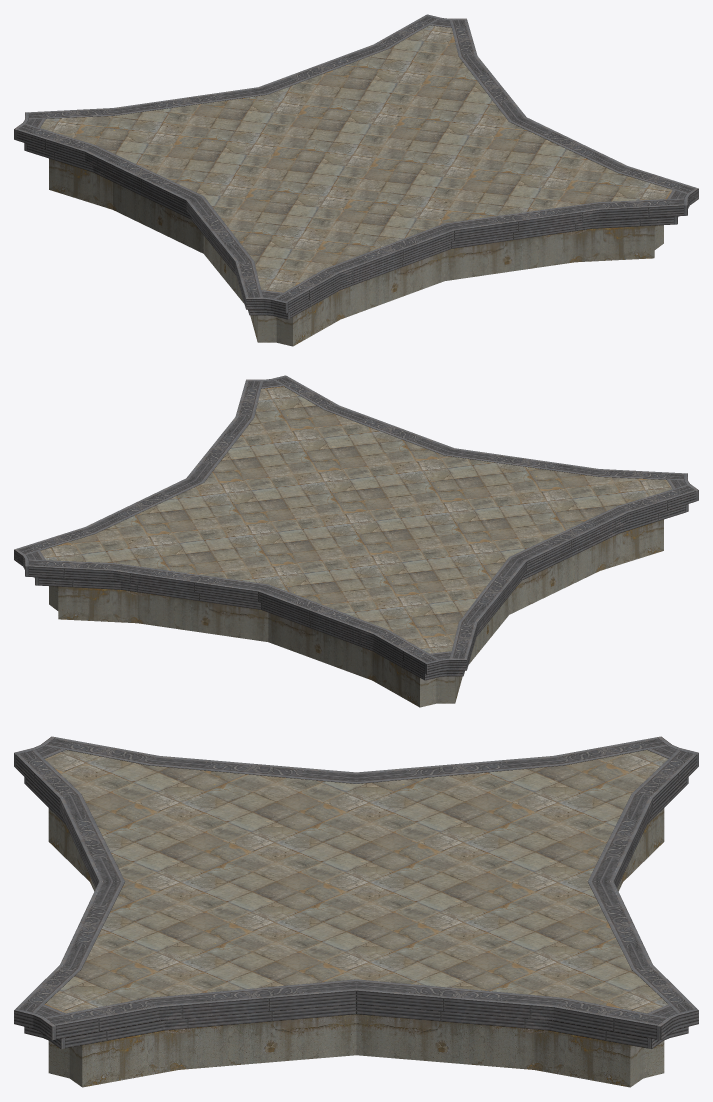
Rendered from Floor1.fbx.
The picture shows the model from 3 angles, top to bottom: view 1: azimuth 30°, elevation 25°; view 2: azimuth 150°, elevation 25°; view 3: azimuth 270°, elevation 25°; orthographic projection. The views are drawn at different scales.
Parts seen in each view (by area): view 1: LV_Nigraturis_Lower_BossFloor01_HSH; view 2: LV_Nigraturis_Lower_BossFloor01_HSH; view 3: LV_Nigraturis_Lower_BossFloor01_HSH.
Part boxes in pixels (<box>): LV_Nigraturis_Lower_BossFloor01_HSH: <box>14,14,698,346</box>; LV_Nigraturis_Lower_BossFloor01_HSH: <box>14,375,698,707</box>; LV_Nigraturis_Lower_BossFloor01_HSH: <box>14,736,698,1087</box>.
Size of the model in its own units: 1.38 by 0.1676 by 1.37.
